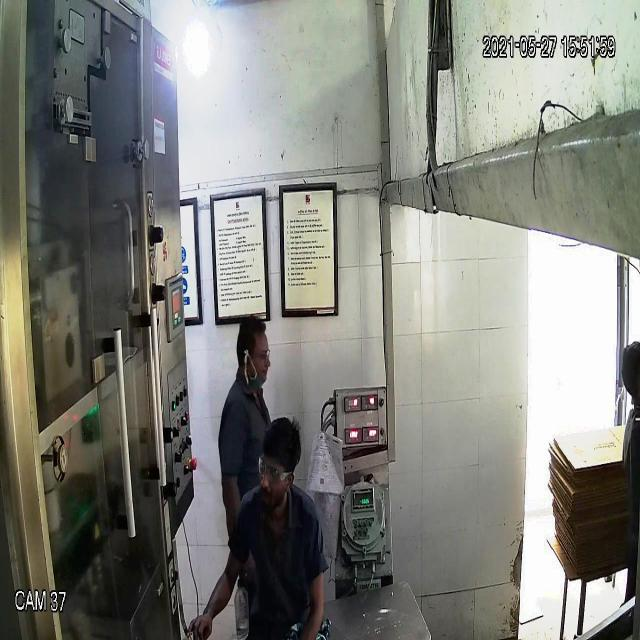glasses: (252, 455, 298, 489)
